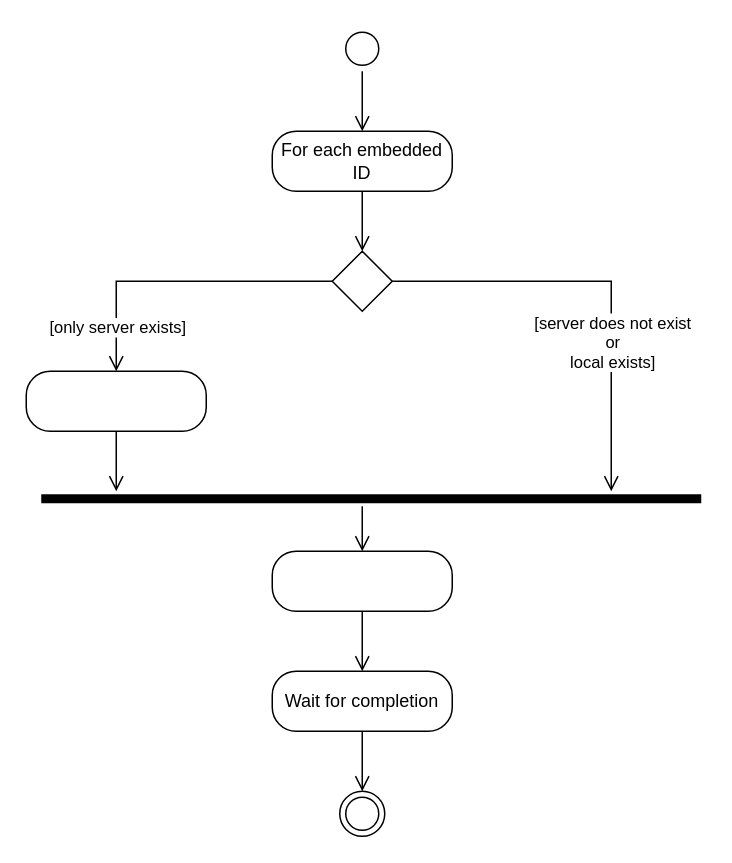
The diagram is 732 pixels wide and 863 high, and some of its shapes have lost their labels. The shapes that lost their labels are listed below. From the top down, each one's box as (x1, y1, x2, y2) in pixels, then its label:
(25, 370, 206, 431): Create fetch task
(271, 550, 452, 611): Execute tasks in parallel
